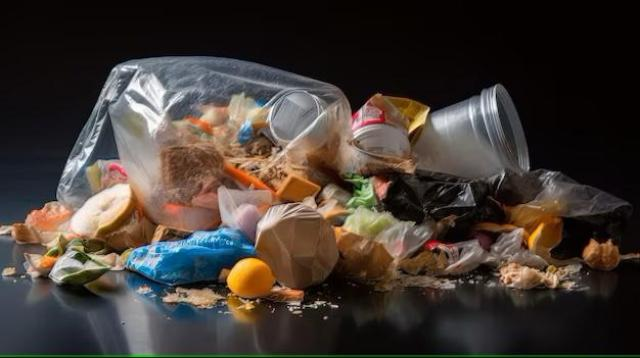Garbage: (10, 57, 631, 302)
Plastic_Bag: (57, 57, 350, 221), (489, 170, 631, 259), (383, 170, 506, 242), (125, 227, 254, 286), (217, 186, 272, 242)
Plastic_Container: (413, 84, 530, 179), (352, 95, 430, 159)
